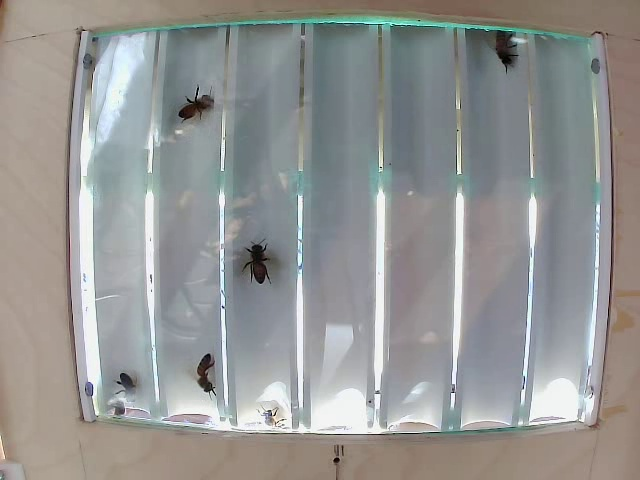bee: (178, 86, 233, 158), (234, 236, 280, 292), (485, 25, 524, 73), (106, 364, 156, 401), (192, 351, 223, 382)
